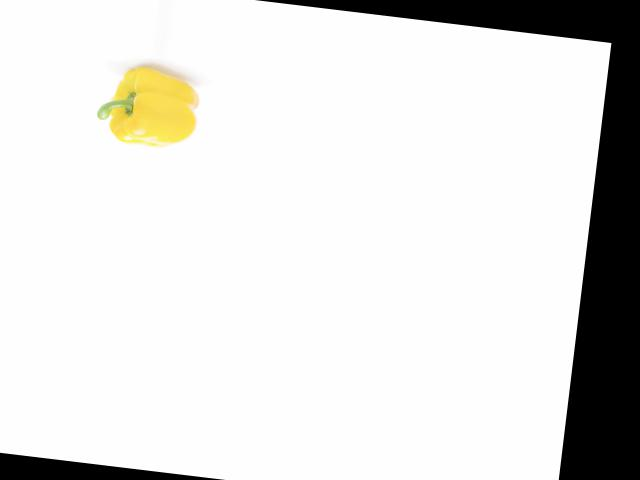bell_pepper: (85, 61, 205, 156)
